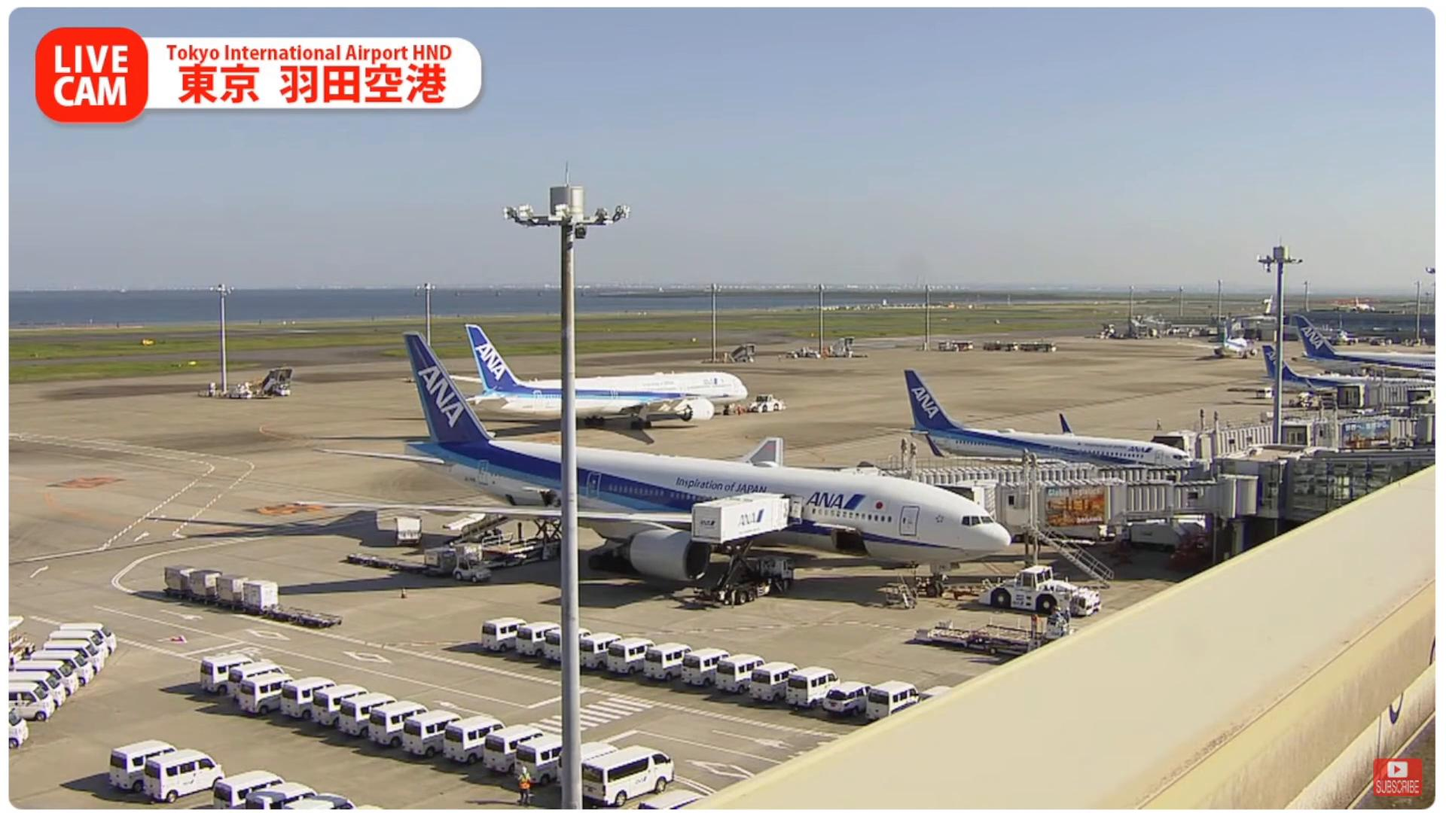APS: (982, 565, 1107, 615)
Aerobridge: (880, 463, 1198, 520), (990, 479, 1258, 539)
Airplane: (308, 328, 1018, 599)
Baggage truck: (390, 512, 426, 551)
Catering: (689, 490, 795, 607)
Dolly: (162, 566, 347, 636), (347, 559, 451, 580)
JCPL: (914, 608, 1083, 659), (437, 520, 564, 580)
Skyloader: (426, 503, 510, 554)
Tractor: (457, 553, 495, 584)
Window: (1281, 462, 1437, 524)
